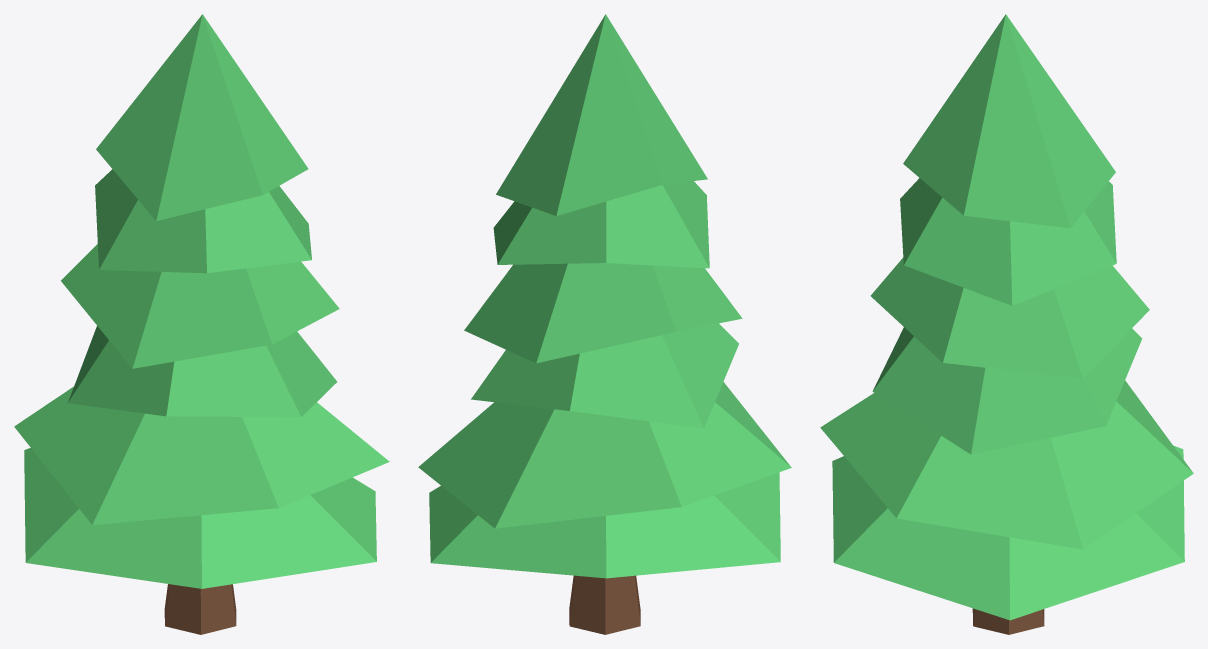
The model's file is fir_tree_poly_2.fbx.
The picture shows the model from 3 angles, left to right: view 1: azimuth 30°, elevation 25°; view 2: azimuth 150°, elevation 25°; view 3: azimuth 270°, elevation 25°; orthographic projection.
Visible parts, largest first — view 1: fir_tree_poly_2; view 2: fir_tree_poly_2; view 3: fir_tree_poly_2.
Boxes of the visible parts, x1,y1,x2,y2 form: fir_tree_poly_2: [14, 14, 389, 634]; fir_tree_poly_2: [418, 14, 791, 634]; fir_tree_poly_2: [820, 14, 1193, 634].
Size of the model in its own units: 2.39 by 3.93 by 2.21.
